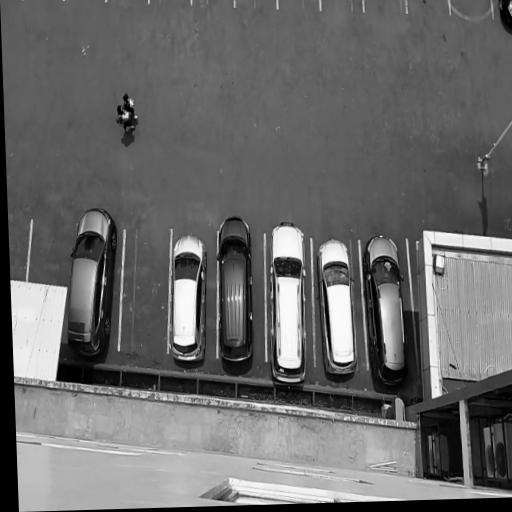Car: (65, 199, 117, 362), (358, 233, 411, 387), (267, 218, 310, 393), (314, 237, 360, 383), (218, 211, 253, 370), (168, 231, 208, 367), (496, 0, 512, 36)
Space Available: (119, 228, 170, 351), (27, 220, 76, 287), (9, 219, 31, 282), (449, 0, 494, 18), (407, 0, 450, 14), (364, 0, 407, 11), (279, 0, 320, 9), (321, 0, 362, 9), (192, 0, 235, 8), (236, 0, 277, 5), (150, 0, 191, 3)
